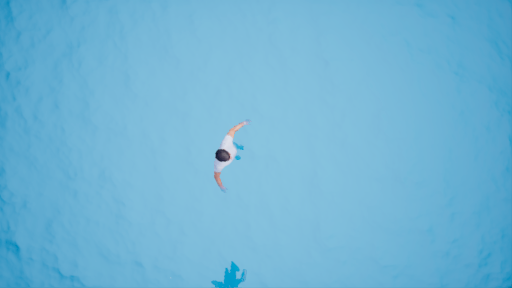person: (211, 112, 251, 190)
